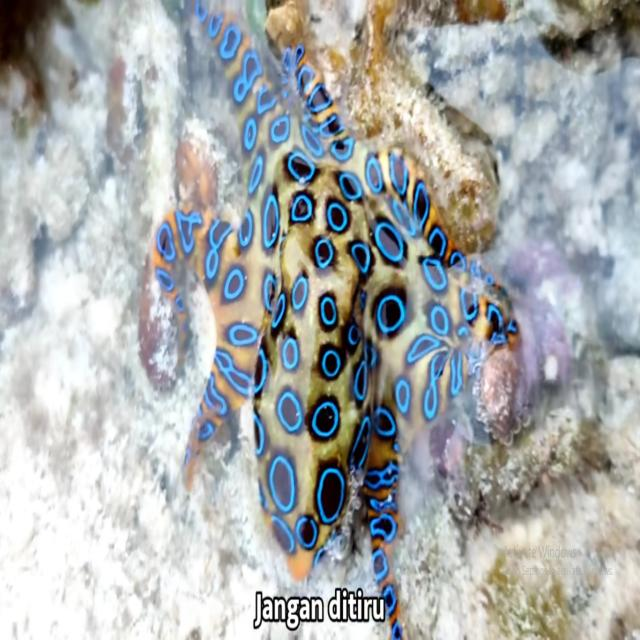blue_ringed_octopus: (153, 0, 522, 639)
